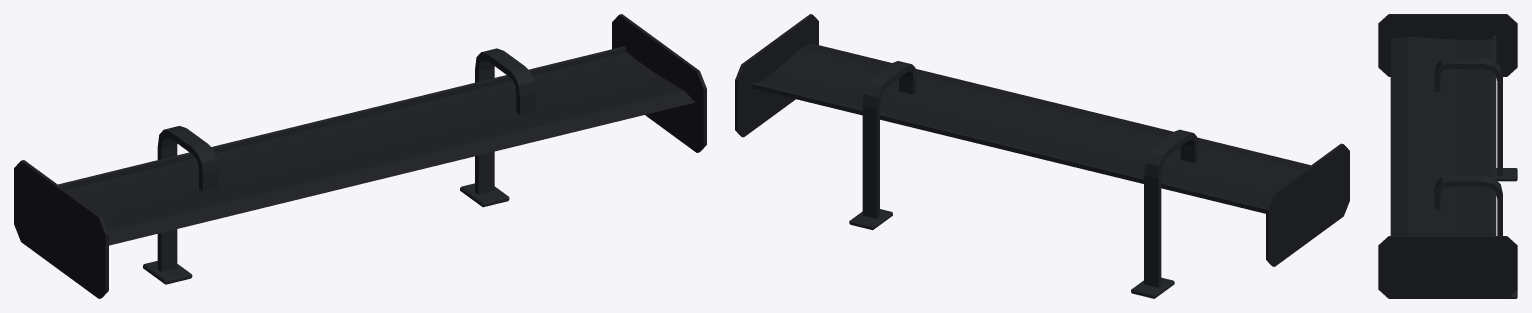
File: kaze_gt_gt_wing.glb
3 renders of one model, left to right at view 1: azimuth 30°, elevation 25°; view 2: azimuth 150°, elevation 25°; view 3: azimuth 270°, elevation 25°, orthographic. The views are drawn at different scales.
Parts seen in each view (by area): view 1: wing_element, model; view 2: wing_element, model; view 3: wing_element, model.
Boxes of the visible parts, bbox=[...] form: wing_element: bbox=[14, 14, 706, 298]; model: bbox=[143, 48, 535, 284]; wing_element: bbox=[735, 14, 1349, 266]; model: bbox=[849, 61, 1197, 298]; wing_element: bbox=[1378, 14, 1517, 298]; model: bbox=[1434, 58, 1517, 298].
Size of the model in its own units: 1.52 by 0.366 by 0.4.
2 materials, 1 textured.
